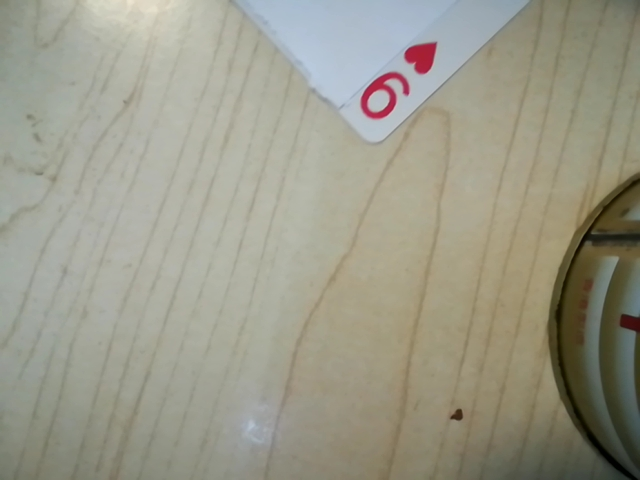hx 9: (350, 39, 443, 132)
